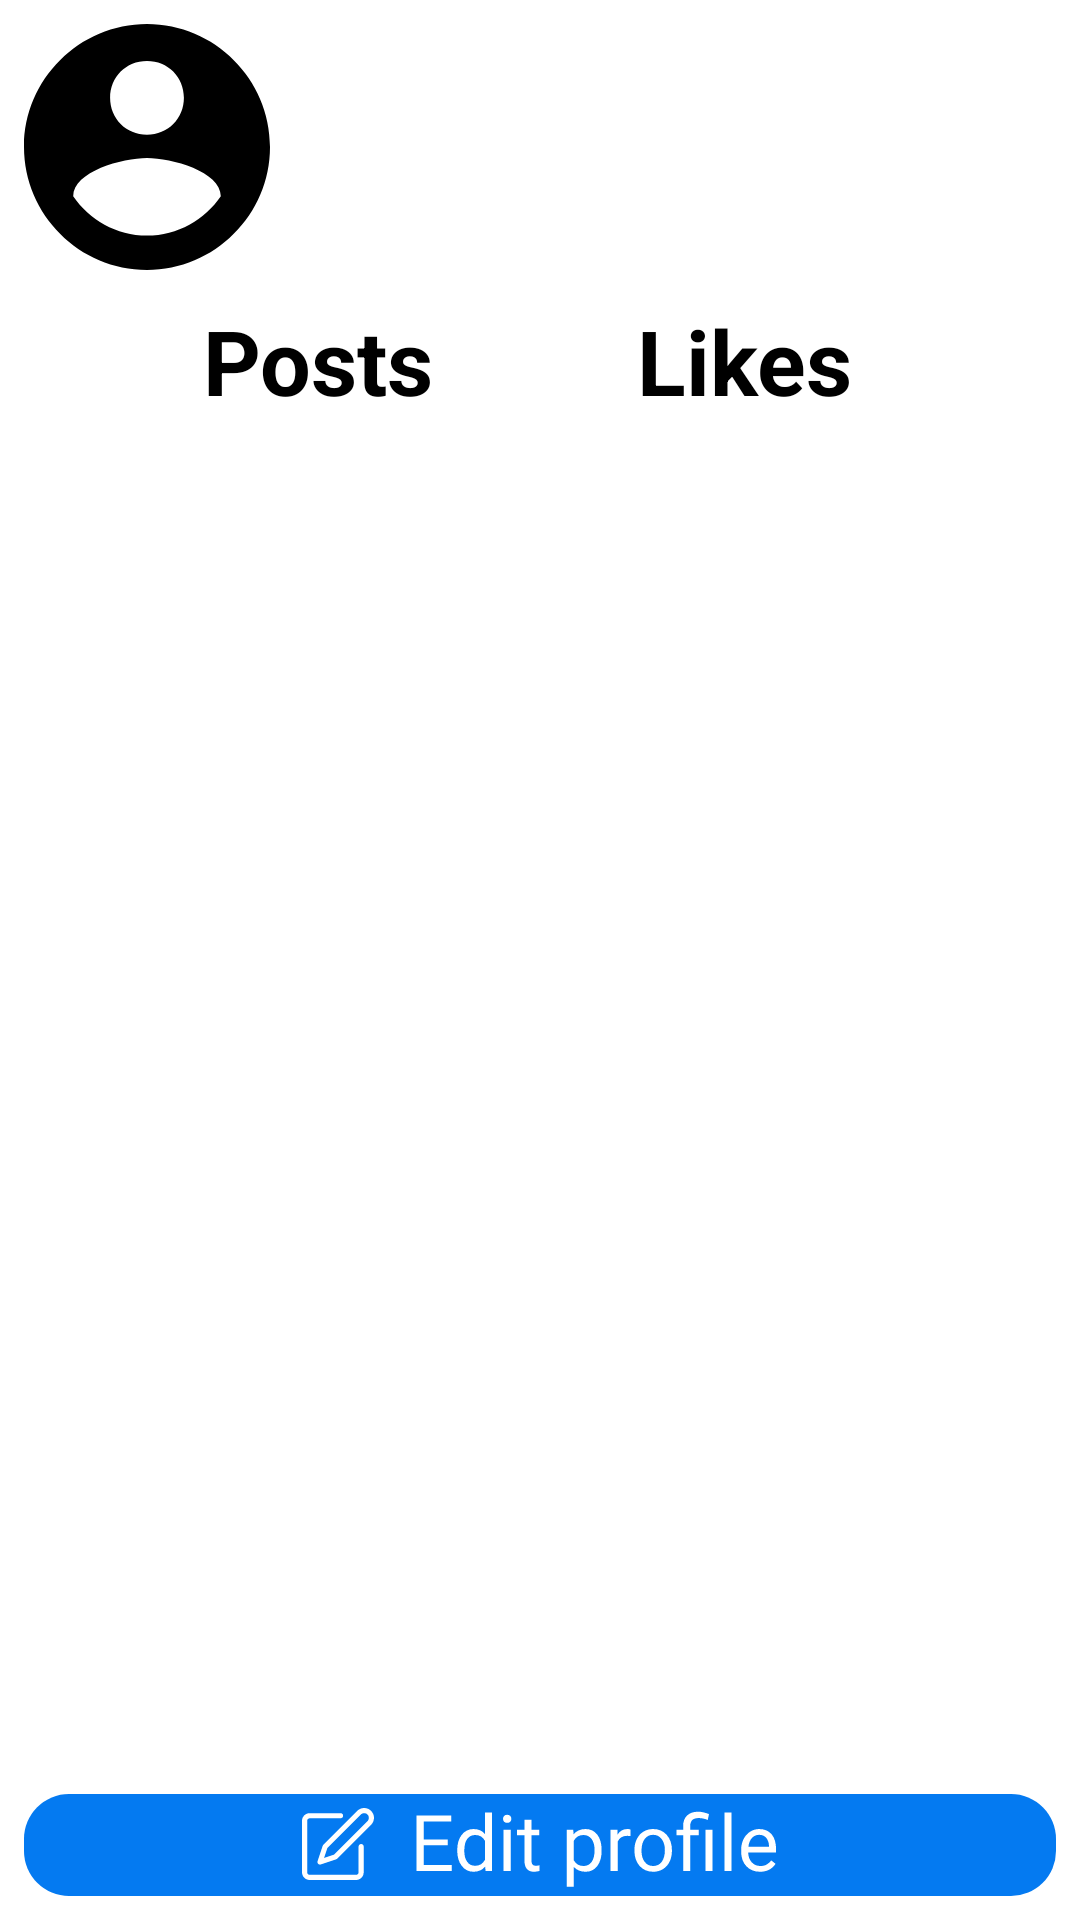

Point at icon controls on the screen. Image size 1080x1920, points as (x,y).
account profile: (147,147)
